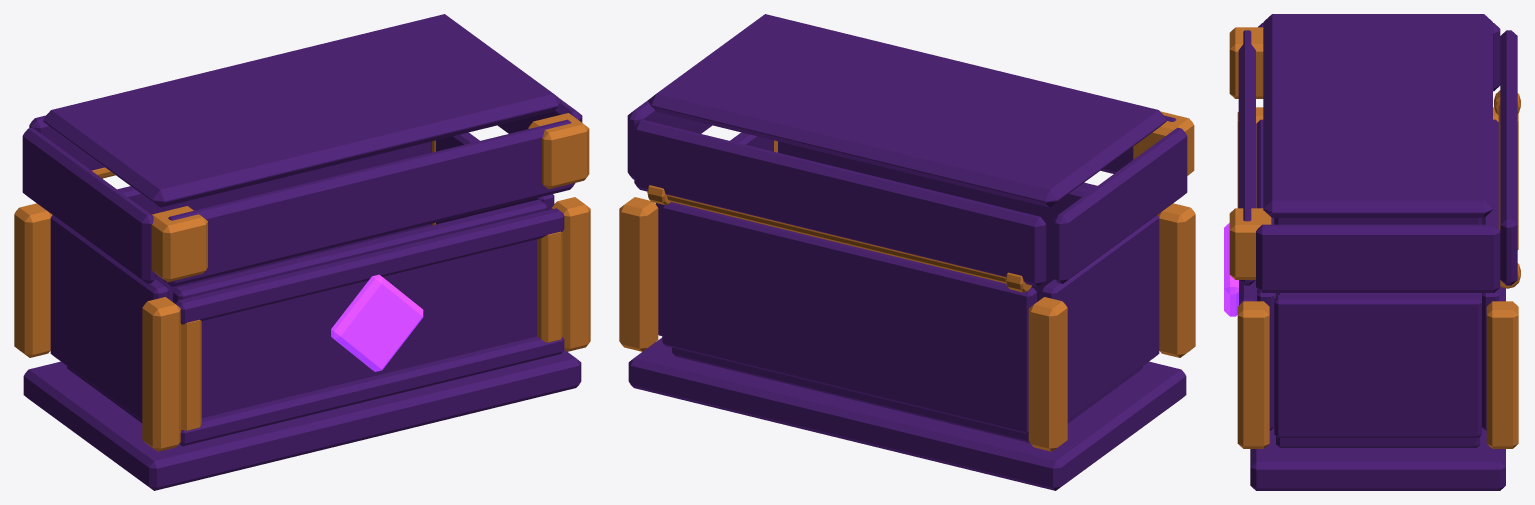
Rendered from BF_Chest_lod1.glb.
3 renders of one model, left to right at view 1: azimuth 30°, elevation 25°; view 2: azimuth 150°, elevation 25°; view 3: azimuth 270°, elevation 25°, orthographic. The views are drawn at different scales.
Parts seen in each view (by area): view 1: BF_L1_BF_Chest_LidTop, BF_L1_BF_Chest_BodyFront, BF_L1_BF_Chest_LidFront, BF_L1_BF_Chest_Plinth, BF_L1_BF_Chest_BodySide_L, BF_L1_BF_Chest_FrontRail_Top, BF_L1_BF_Chest_LidSide_L, BF_L1_BF_Chest_FrontRail_Bottom, BF_L1_BF_Chest_Corner_L_F, BF_L1_BF_Chest_Corner_L_B, BF_L1_BF_Chest_Latch, BF_L1_BF_Chest_BodyRear (+8 smaller); view 2: BF_L1_BF_Chest_BodyRear, BF_L1_BF_Chest_LidTop, BF_L1_BF_Chest_LidRear, BF_L1_BF_Chest_Plinth, BF_L1_BF_Chest_BodySide_L, BF_L1_BF_Chest_LidSide_L, BF_L1_BF_Chest_Corner_R_B, BF_L1_BF_Chest_Corner_L_B, BF_L1_BF_Chest_Corner_L_F, BF_L1_BF_Chest_BodyFront, BF_L1_BF_Chest_BodyFloor, BF_L1_BF_Chest_HingeBar (+3 smaller); view 3: BF_L1_BF_Chest_LidTop, BF_L1_BF_Chest_BodySide_R, BF_L1_BF_Chest_LidSide_R, BF_L1_BF_Chest_Plinth, BF_L1_BF_Chest_Corner_R_B, BF_L1_BF_Chest_Corner_R_F, BF_L1_BF_Chest_LidRear, BF_L1_BF_Chest_LidFront, BF_L1_BF_Chest_BodyFloor, BF_L1_BF_Chest_LidCorner_R, BF_L1_BF_Chest_BodyFront, BF_L1_BF_Chest_BodyRear (+8 smaller).
Boxes of the visible parts, box(x1,y1,x2,y2) form: BF_L1_BF_Chest_LidTop: box(43, 14, 561, 207); BF_L1_BF_Chest_BodyFront: box(173, 199, 547, 417); BF_L1_BF_Chest_LidFront: box(163, 119, 575, 286); BF_L1_BF_Chest_Plinth: box(23, 349, 581, 490); BF_L1_BF_Chest_BodySide_L: box(50, 215, 168, 420); BF_L1_BF_Chest_FrontRail_Top: box(175, 208, 564, 324); BF_L1_BF_Chest_LidSide_L: box(22, 127, 157, 283); BF_L1_BF_Chest_FrontRail_Bottom: box(179, 336, 564, 446); BF_L1_BF_Chest_Corner_L_F: box(142, 297, 181, 451); BF_L1_BF_Chest_Corner_L_B: box(14, 203, 52, 357); BF_L1_BF_Chest_Latch: box(331, 274, 423, 371); BF_L1_BF_Chest_BodyRear: box(117, 141, 431, 301); BF_L1_BF_Chest_BodyRear: box(662, 202, 1036, 434); BF_L1_BF_Chest_LidTop: box(648, 14, 1166, 207); BF_L1_BF_Chest_LidRear: box(634, 119, 1046, 286); BF_L1_BF_Chest_Plinth: box(628, 337, 1186, 490); BF_L1_BF_Chest_BodySide_L: box(1041, 215, 1159, 420); BF_L1_BF_Chest_LidSide_L: box(1052, 127, 1187, 283); BF_L1_BF_Chest_Corner_R_B: box(619, 197, 658, 351); BF_L1_BF_Chest_Corner_L_B: box(1028, 297, 1067, 451); BF_L1_BF_Chest_Corner_L_F: box(1157, 203, 1195, 357); BF_L1_BF_Chest_BodyFront: box(778, 141, 1092, 301); BF_L1_BF_Chest_BodyFloor: box(672, 347, 1142, 442); BF_L1_BF_Chest_HingeBar: box(667, 194, 1006, 283); BF_L1_BF_Chest_LidTop: box(1263, 14, 1492, 217); BF_L1_BF_Chest_BodySide_R: box(1274, 295, 1481, 437); BF_L1_BF_Chest_LidSide_R: box(1256, 224, 1500, 292); BF_L1_BF_Chest_Plinth: box(1250, 287, 1505, 490); BF_L1_BF_Chest_Corner_R_B: box(1486, 301, 1518, 448); BF_L1_BF_Chest_Corner_R_F: box(1237, 301, 1269, 448); BF_L1_BF_Chest_LidRear: box(1500, 30, 1517, 285); BF_L1_BF_Chest_LidFront: box(1238, 30, 1255, 285); BF_L1_BF_Chest_BodyFloor: box(1276, 293, 1480, 447); BF_L1_BF_Chest_LidCorner_R: box(1229, 208, 1271, 279); BF_L1_BF_Chest_BodyFront: box(1257, 119, 1274, 430); BF_L1_BF_Chest_BodyRear: box(1482, 119, 1499, 430).
Bounding box in the file's own units: 1.55 × 0.98 × 0.9295.
